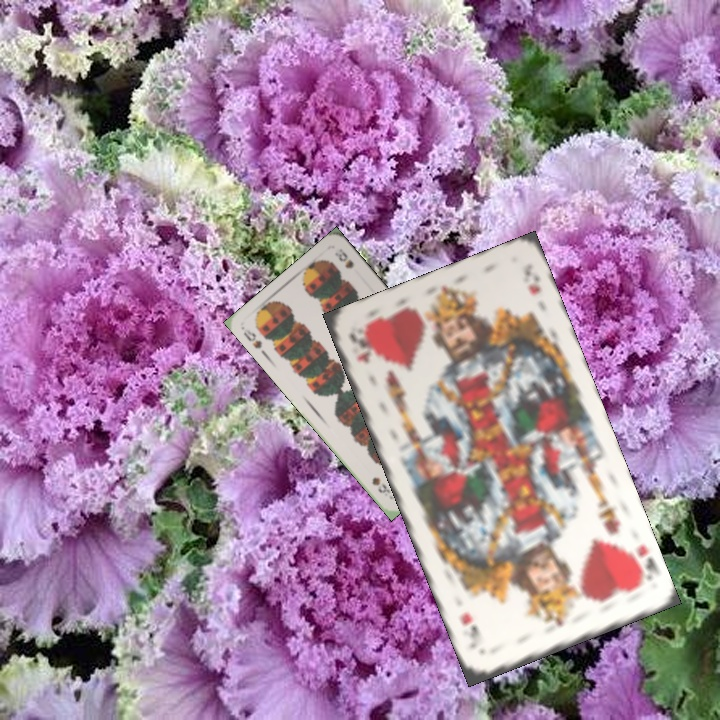HK: (621, 540, 661, 589), (344, 327, 374, 366)
S8: (239, 325, 265, 351)
